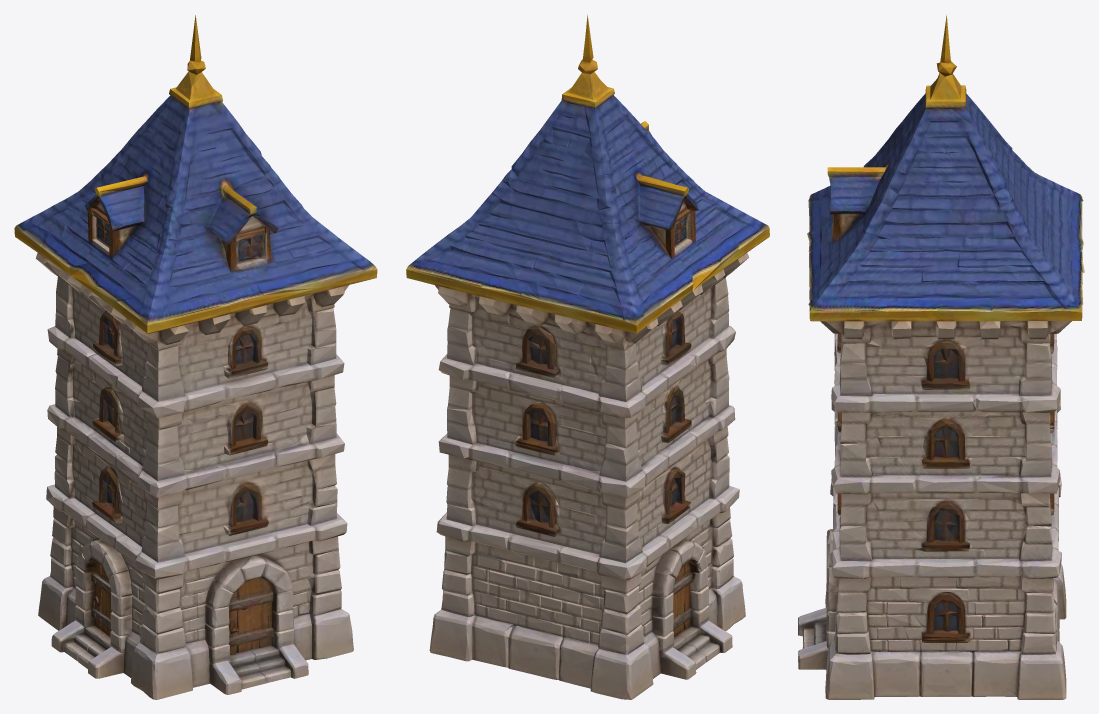
The model's file is oc_tower4.glb.
3 views of the same model, side by side, from view 1: azimuth 30°, elevation 25°; view 2: azimuth 150°, elevation 25°; view 3: azimuth 270°, elevation 25° (orthographic). The views are drawn at different scales.
Parts seen in each view (by area): view 1: W_city_house_4storey_tower; view 2: W_city_house_4storey_tower; view 3: W_city_house_4storey_tower.
Part boxes in pixels (x1=…): W_city_house_4storey_tower: x1=14, y1=15, x2=377, y2=699; W_city_house_4storey_tower: x1=406, y1=15, x2=769, y2=699; W_city_house_4storey_tower: x1=798, y1=15, x2=1084, y2=699.
Bounding box in the file's own units: 6.68 × 16.5 × 6.75.
1 material, 1 textured.
